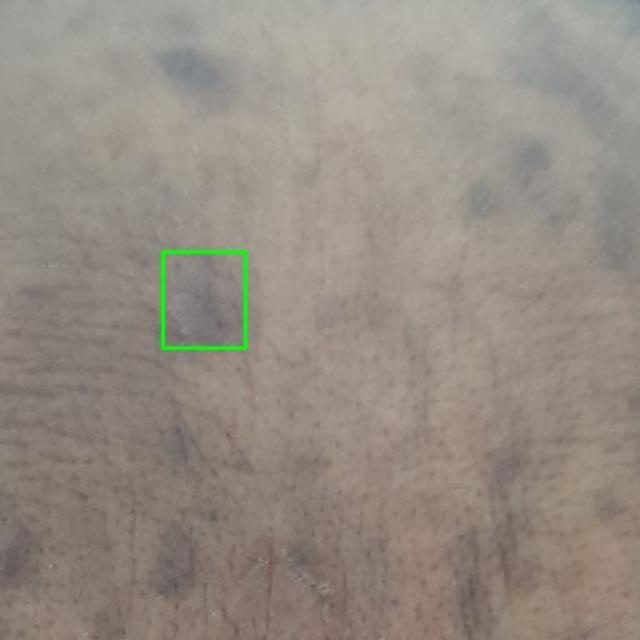Tinea Corporis: (162, 251, 245, 348)
